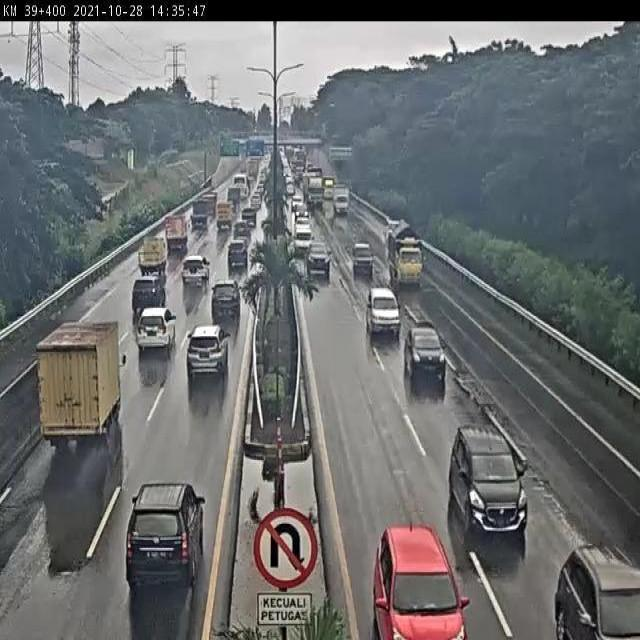car: (111, 476, 216, 593), (376, 516, 472, 640), (451, 423, 534, 547), (562, 533, 640, 640), (355, 281, 411, 347), (180, 321, 226, 387), (408, 321, 451, 388), (133, 296, 173, 364), (350, 243, 381, 289), (213, 277, 244, 323), (311, 241, 333, 287), (179, 254, 205, 286), (230, 240, 250, 267), (292, 203, 313, 224), (296, 226, 309, 254), (235, 220, 251, 236)
truck: (31, 312, 128, 460), (386, 222, 434, 290), (163, 212, 196, 248), (143, 237, 174, 272), (187, 198, 216, 234), (213, 200, 238, 233), (308, 179, 328, 212), (331, 183, 353, 213)
